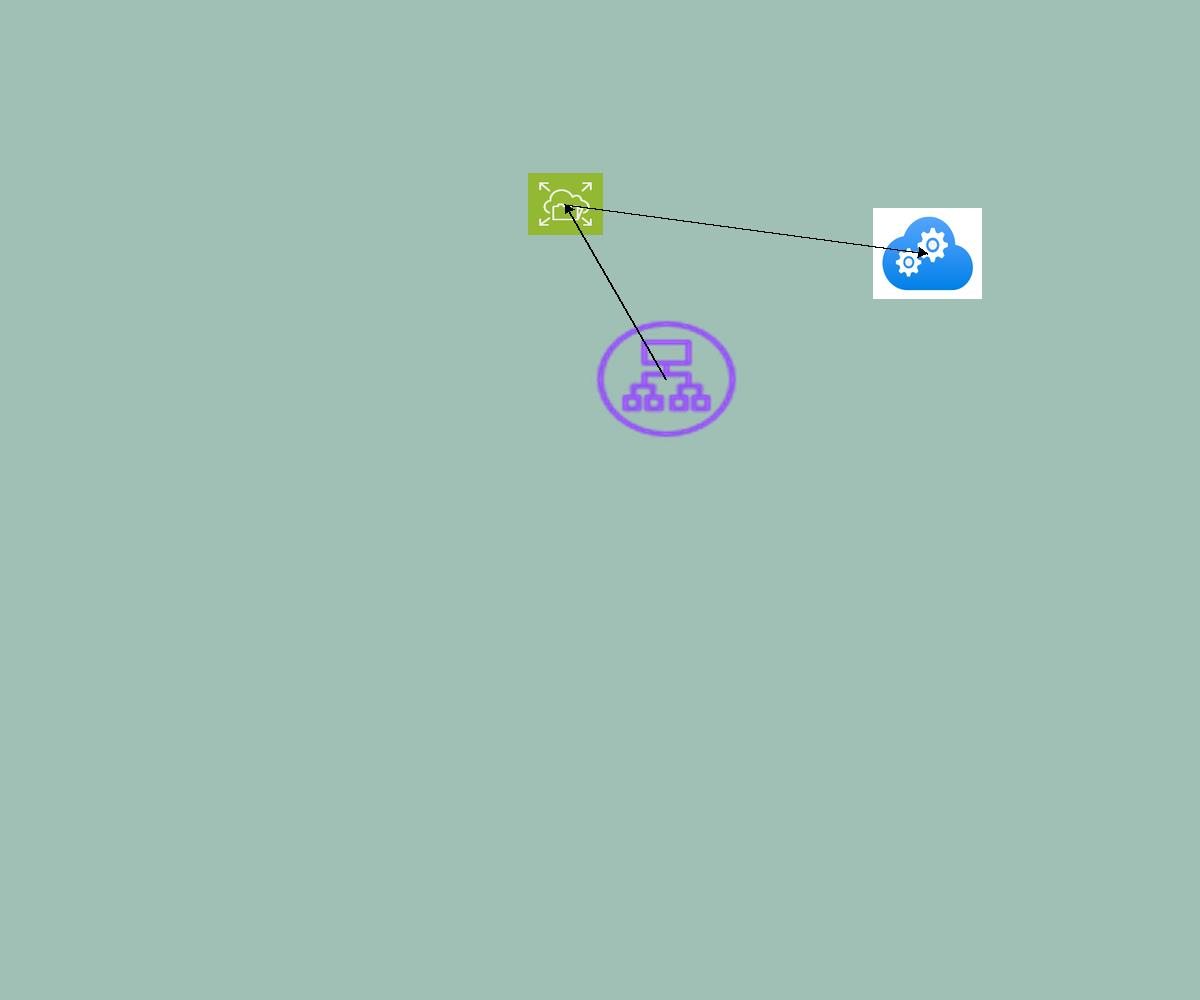AWS-EFS: (528, 173, 603, 235)
AWS-Res_Elastic-Load-Balancing_Application-Load-Balancer: (591, 316, 742, 442)
Azure_cloud_services: (873, 208, 982, 299)
